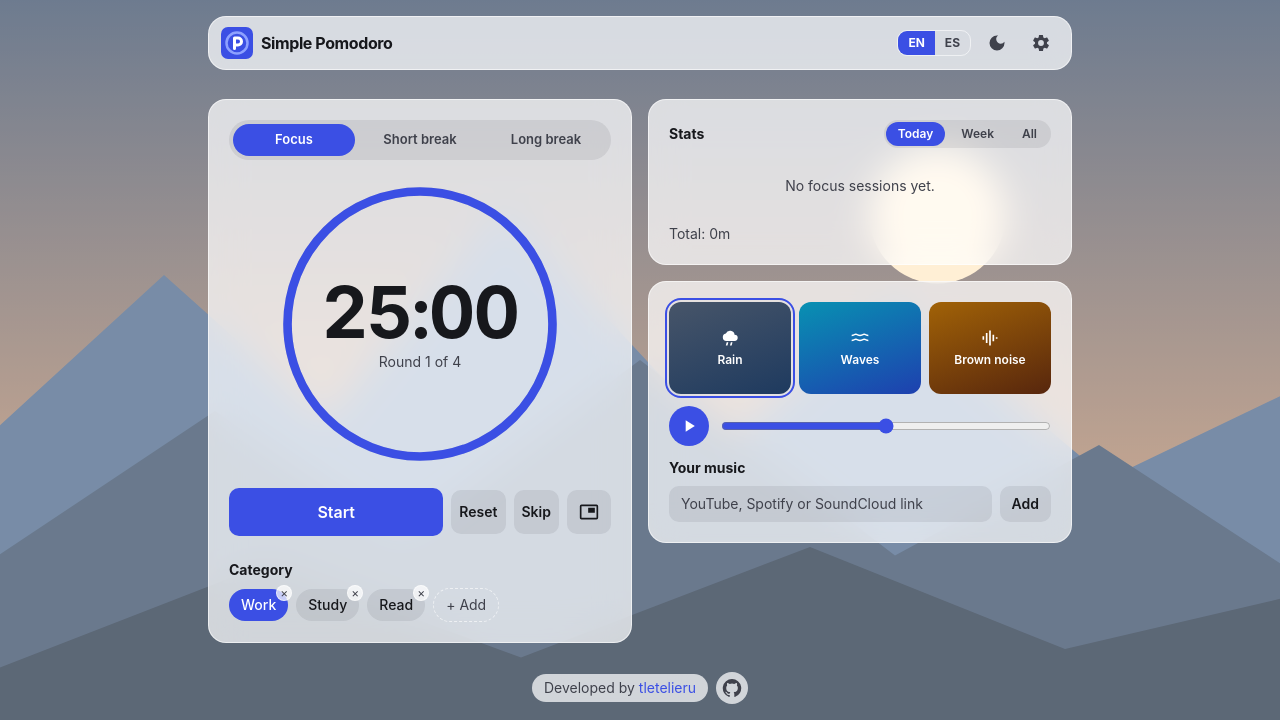
Scenario: App › pauses and resumes from the same time
Click the button "Start" at x=336, y=512, box [229,488,443,536]
Wait 10000 ms
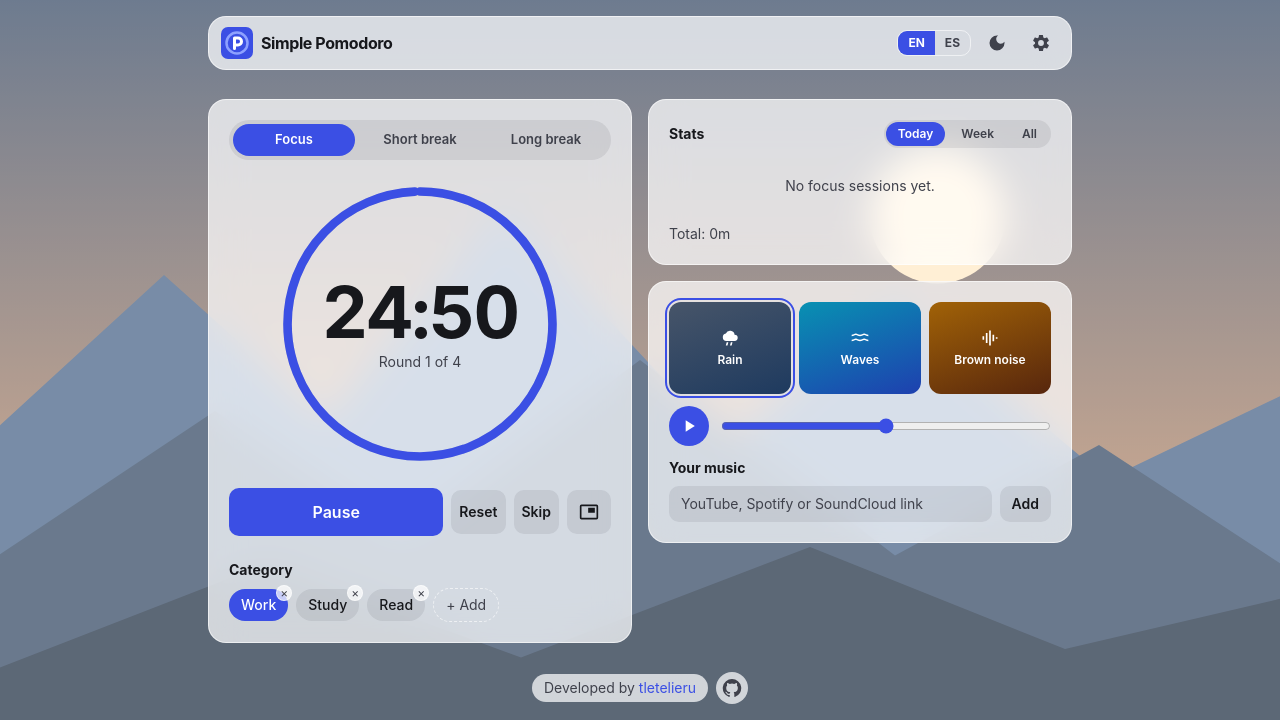
Click the button "Pause" at x=336, y=512, box [229,488,443,536]
Wait 30000 ms
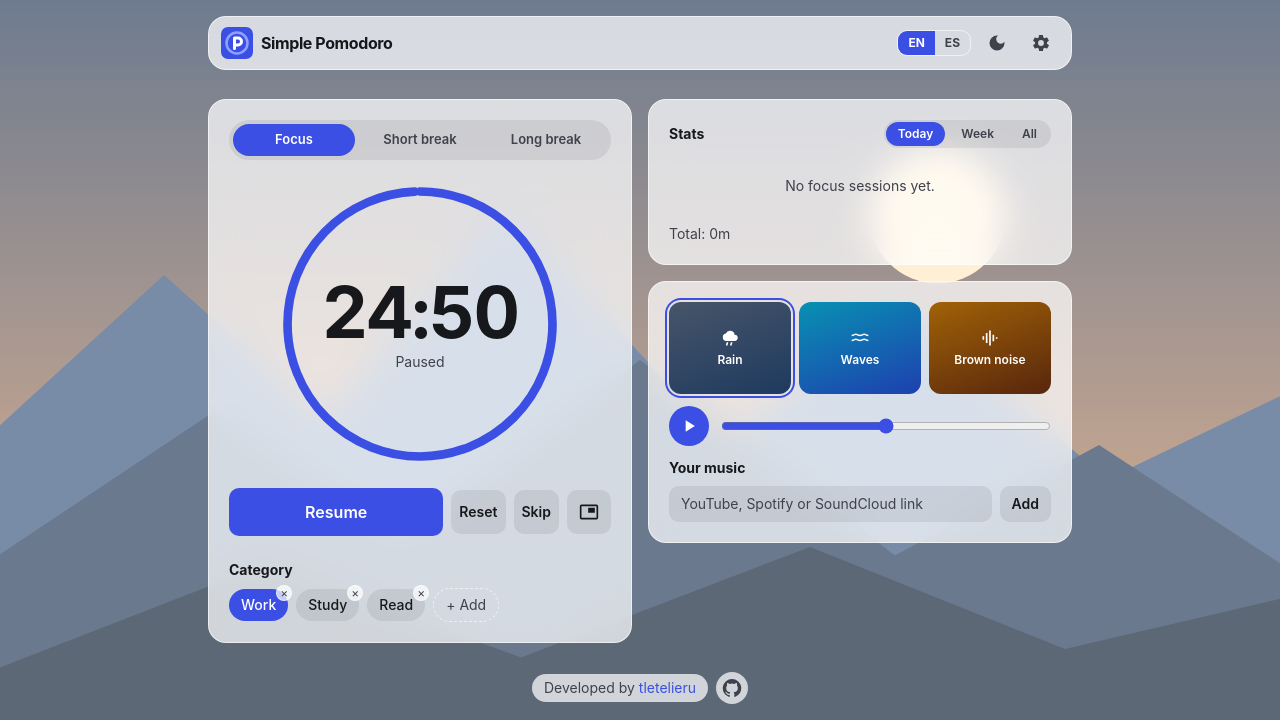
Expected: the text "24:50" is shown, [322,276,518,348]
Expected: the text "Paused" is shown, [395,352,445,372]
Click the button "Resume" at x=336, y=512, box [229,488,443,536]
Wait 5000 ms
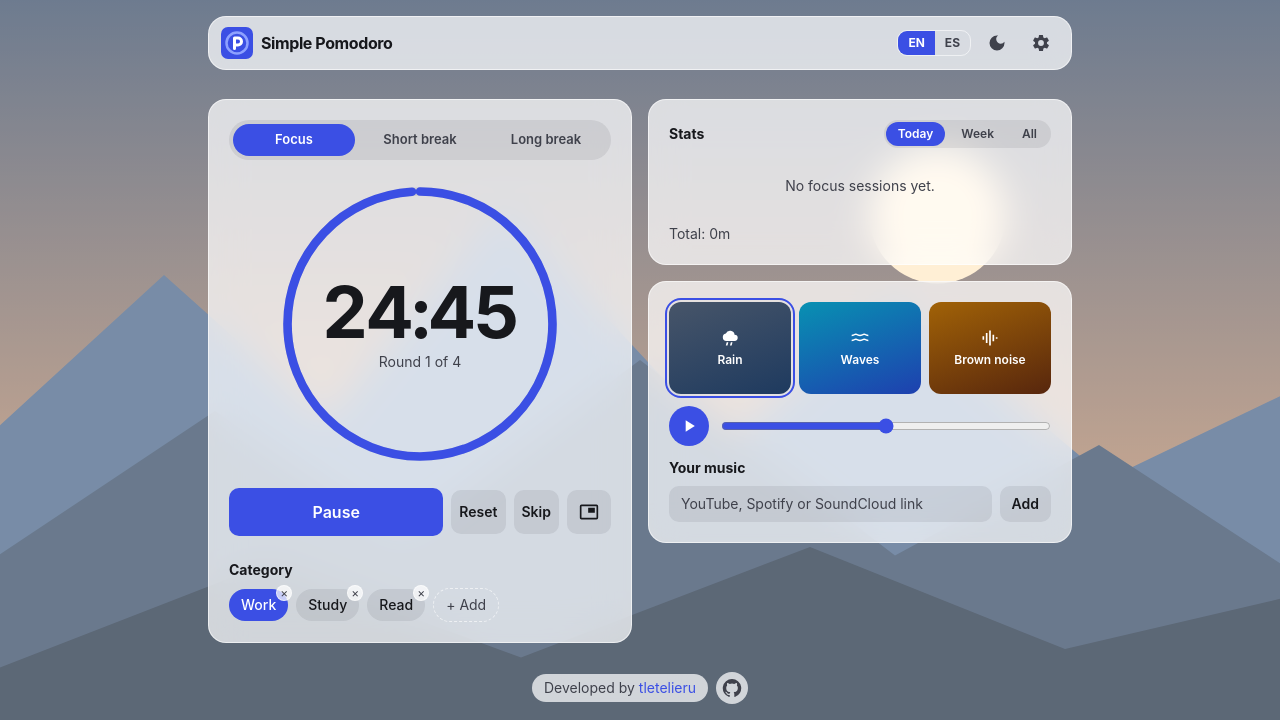
Expected: the text "24:45" is shown, [322,276,518,348]
